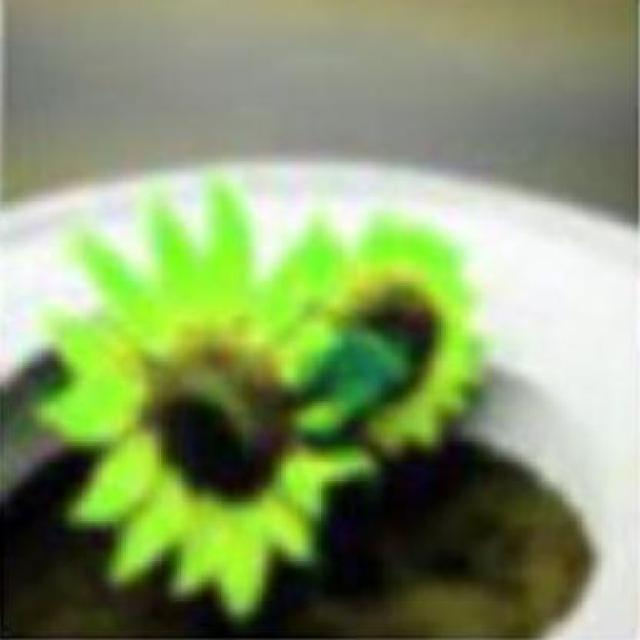sunflower: (42, 169, 378, 632), (354, 211, 494, 464)
